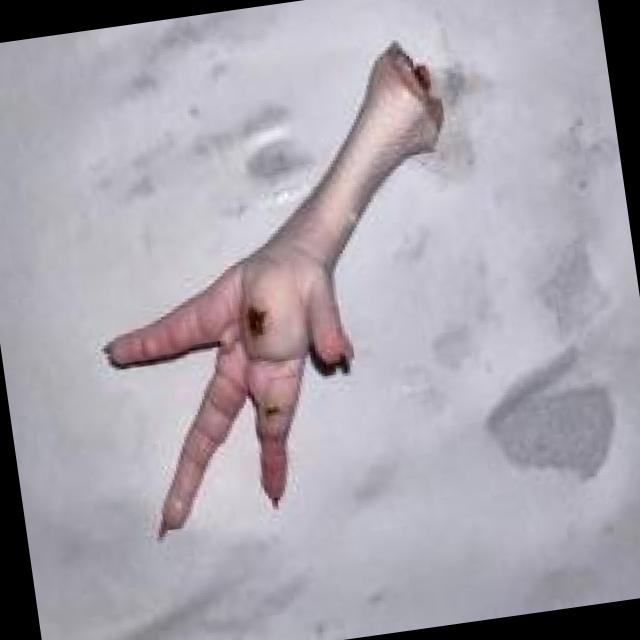Bumble foot: (214, 284, 306, 371)
